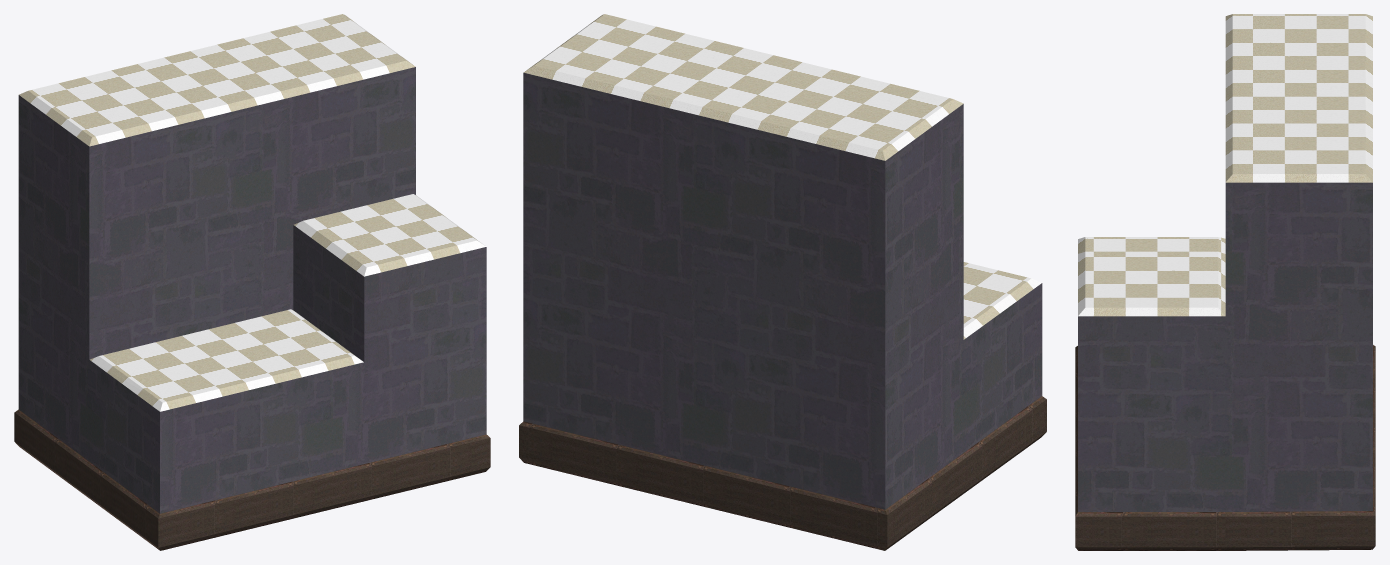
File: DarkCastleStepD.fbx
The picture shows the model from 3 angles, left to right: view 1: azimuth 30°, elevation 25°; view 2: azimuth 150°, elevation 25°; view 3: azimuth 270°, elevation 25°; orthographic projection. The views are drawn at different scales.
Parts seen in each view (by area): view 1: Plane.002; view 2: Plane.002; view 3: Plane.002.
Part boxes in pixels (left/top/right/bottom): Plane.002: left=14, top=14, right=490, bottom=550; Plane.002: left=519, top=14, right=1046, bottom=550; Plane.002: left=1075, top=14, right=1375, bottom=550.
Bounding box in the file's own units: 122072 × 125869 × 91554.
3 materials, 3 textured.
